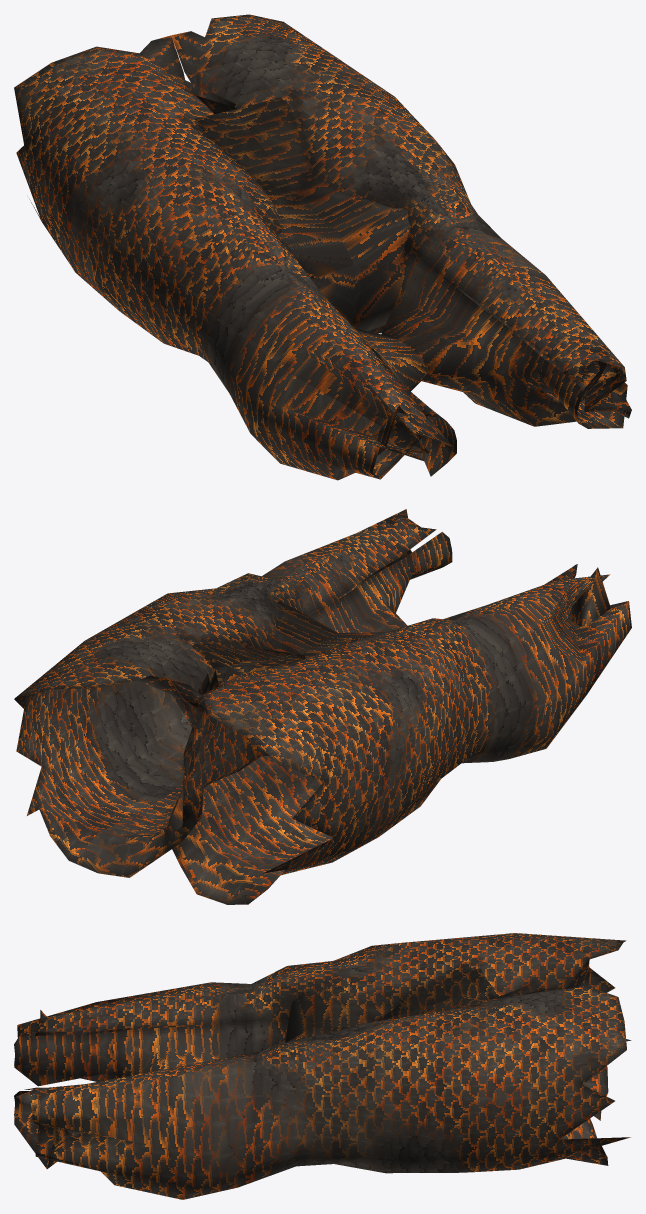
File: jambieres_braise.glb
3 views of the same model, one above another, from view 1: azimuth 30°, elevation 25°; view 2: azimuth 150°, elevation 25°; view 3: azimuth 270°, elevation 25° (orthographic). The views are drawn at different scales.
Parts seen in each view (by area): view 1: jambieres_braise; view 2: jambieres_braise; view 3: jambieres_braise.
Part boxes in pixels (left/top/right/bottom): jambieres_braise: left=14, top=14, right=631, bottom=480; jambieres_braise: left=14, top=509, right=631, bottom=904; jambieres_braise: left=14, top=933, right=631, bottom=1199.
Bounding box in the file's own units: 0.4195 × 0.2762 × 0.8328.
1 material, 1 textured.
